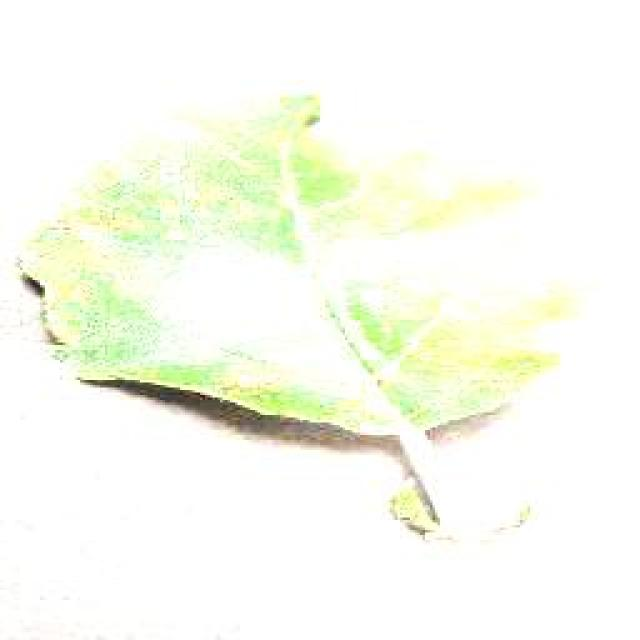apple rust disease: (12, 85, 572, 540)
